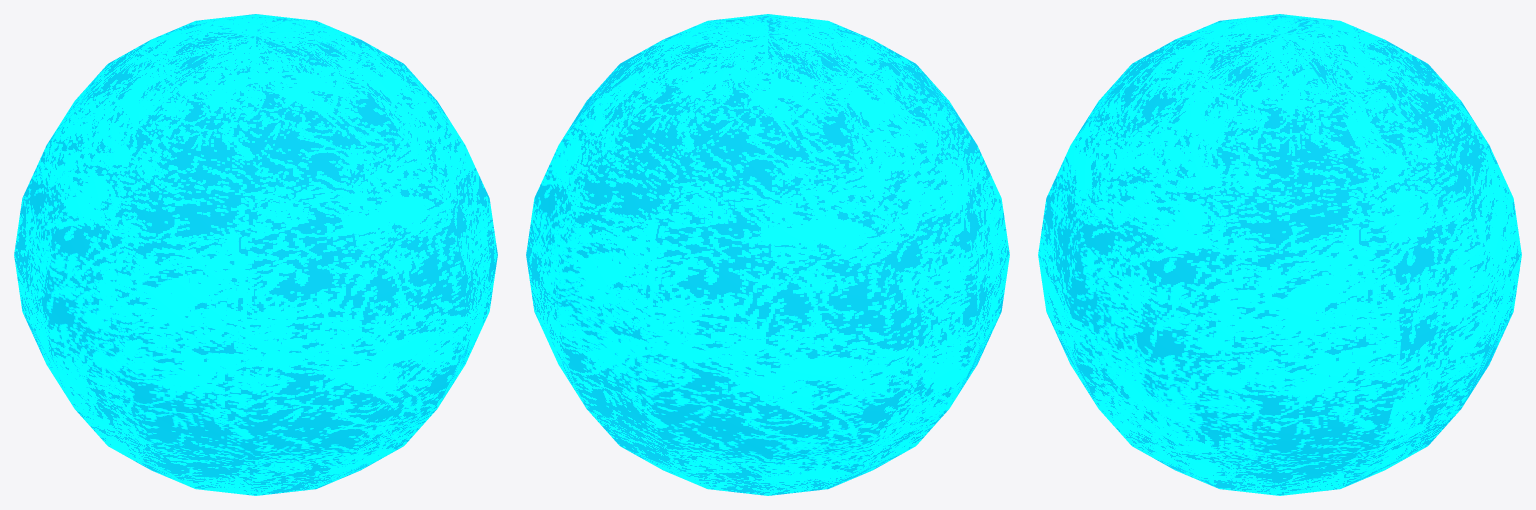
The model's file is crystalorb_v03.fbx.
3 views of the same model, side by side, from view 1: azimuth 30°, elevation 25°; view 2: azimuth 150°, elevation 25°; view 3: azimuth 270°, elevation 25° (orthographic).
Parts seen in each view (by area): view 1: Orb_glow; view 2: Orb_glow; view 3: Orb_glow.
Boxes of the visible parts, bbox=[...] form: Orb_glow: bbox=[14, 14, 497, 495]; Orb_glow: bbox=[526, 14, 1009, 495]; Orb_glow: bbox=[1038, 14, 1521, 495].
Size of the model in its own units: 2 by 2 by 2.
Materials: 1 (1 with a texture image).
